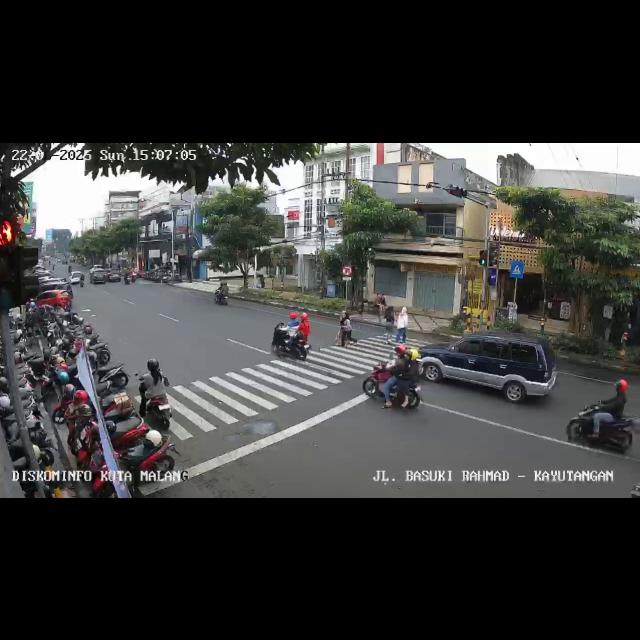car: (421, 332, 559, 408), (34, 278, 72, 310), (90, 265, 118, 285)
motorcycle: (567, 390, 637, 456), (364, 346, 426, 409), (138, 359, 172, 428), (270, 308, 312, 360), (215, 279, 231, 307)
person: (340, 310, 358, 348), (384, 305, 396, 345), (396, 305, 408, 343)
